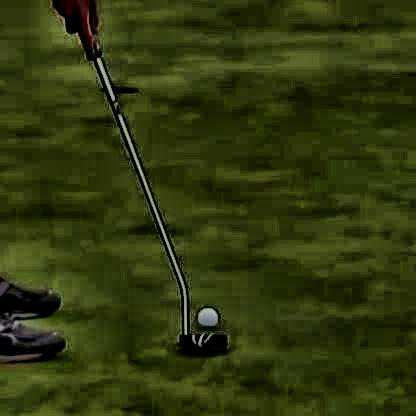golfball: (195, 301, 219, 326)
